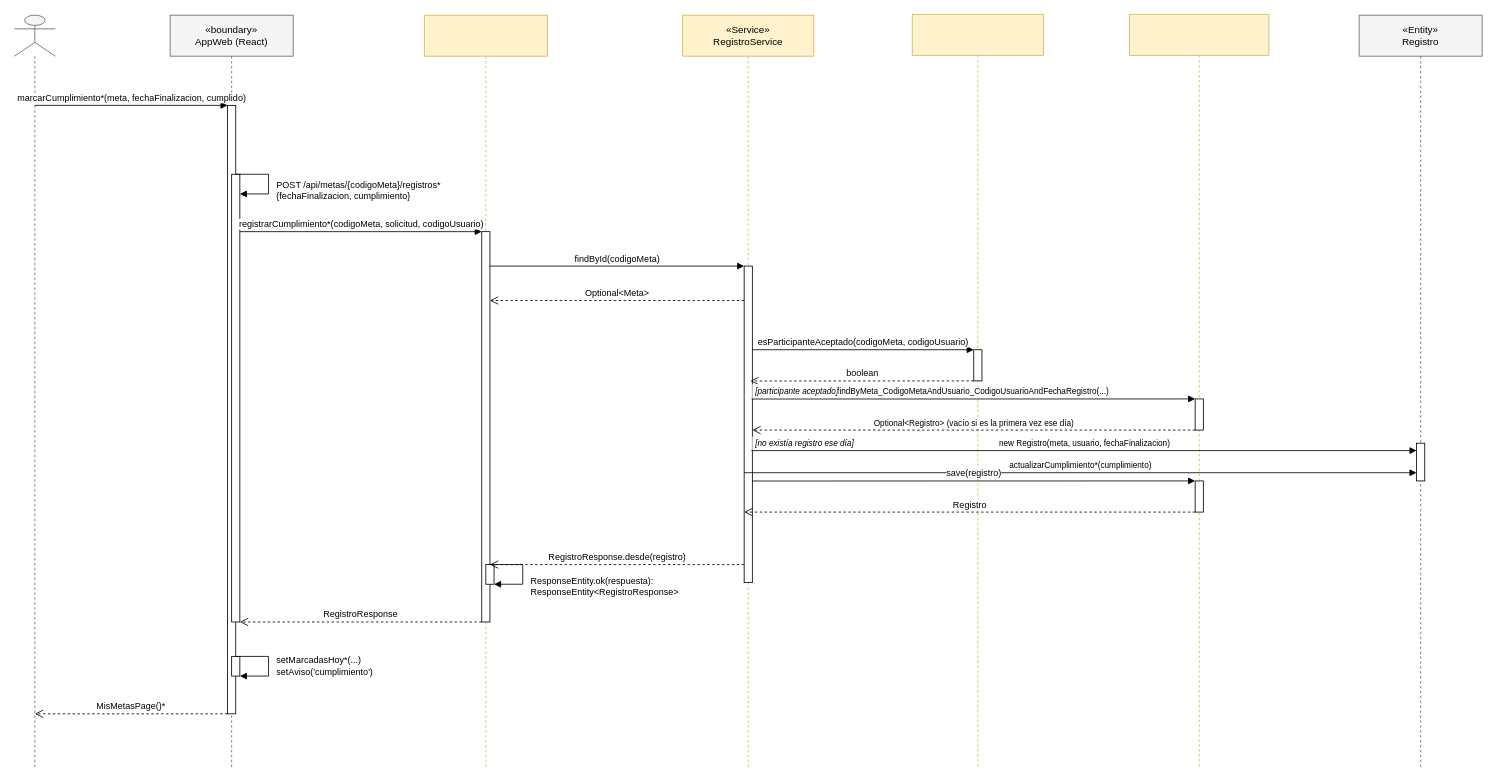
This 1497x784 diagram has some shape labels left out. Here are the shapes that lost their labels. From the top down, the box of each, then its label:
(14, 14, 55, 770): Usuario
(424, 14, 547, 770): «RestController» MetaController
(911, 14, 1043, 769): «interface» MetaRepository
(1129, 14, 1269, 769): «interface» RegistroRepository
